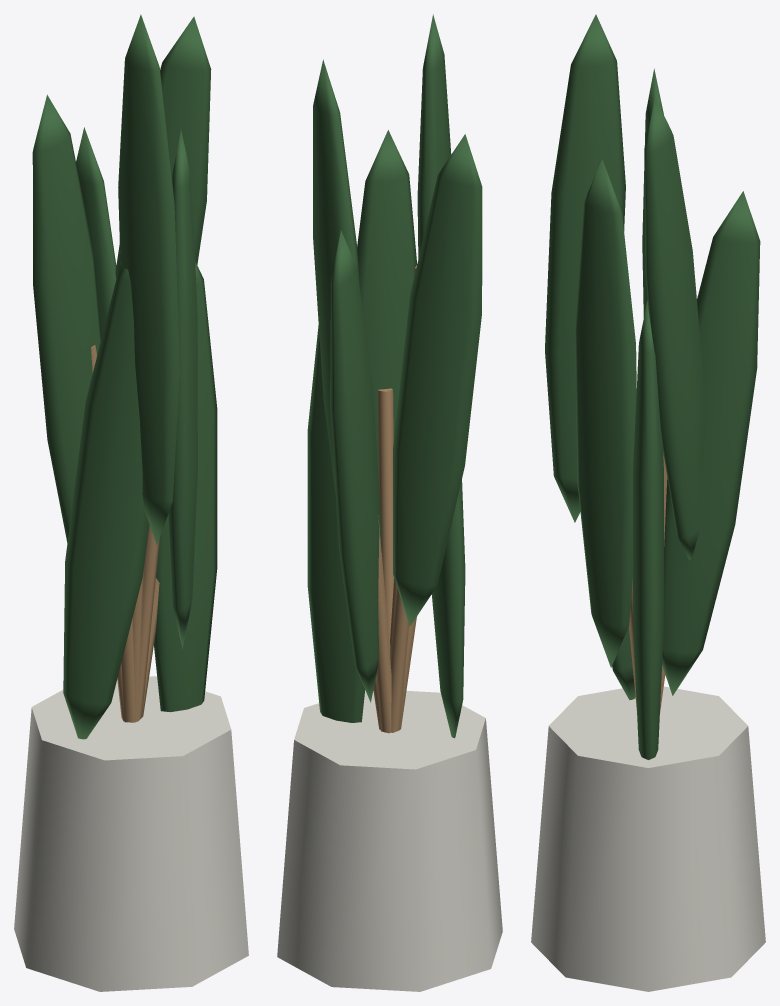
File: plant-3.glb
The picture shows the model from 3 angles, left to right: view 1: azimuth 30°, elevation 25°; view 2: azimuth 150°, elevation 25°; view 3: azimuth 270°, elevation 25°; orthographic projection. The views are drawn at different scales.
Parts seen in each view (by area): view 1: plant:3:editor; view 2: plant:3:editor; view 3: plant:3:editor.
Part boxes in pixels (x1,y1,x2,y2): plant:3:editor: (14,14,248,991); plant:3:editor: (277,14,502,991); plant:3:editor: (531,14,765,991).
Size of the model in its own units: 0.1736 by 0.7501 by 0.1736.
